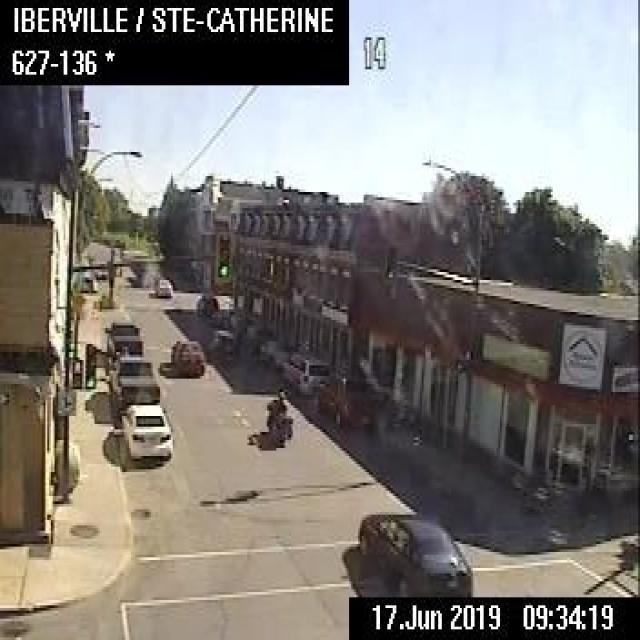vehicle: (354, 509, 470, 592), (313, 372, 375, 428), (118, 402, 172, 460), (108, 353, 158, 412), (281, 351, 329, 395), (266, 386, 292, 445), (104, 318, 142, 358), (169, 338, 204, 376), (207, 320, 238, 352), (260, 337, 288, 365), (241, 320, 266, 351), (220, 306, 246, 332), (195, 292, 217, 314), (73, 270, 97, 290), (154, 274, 171, 294)
